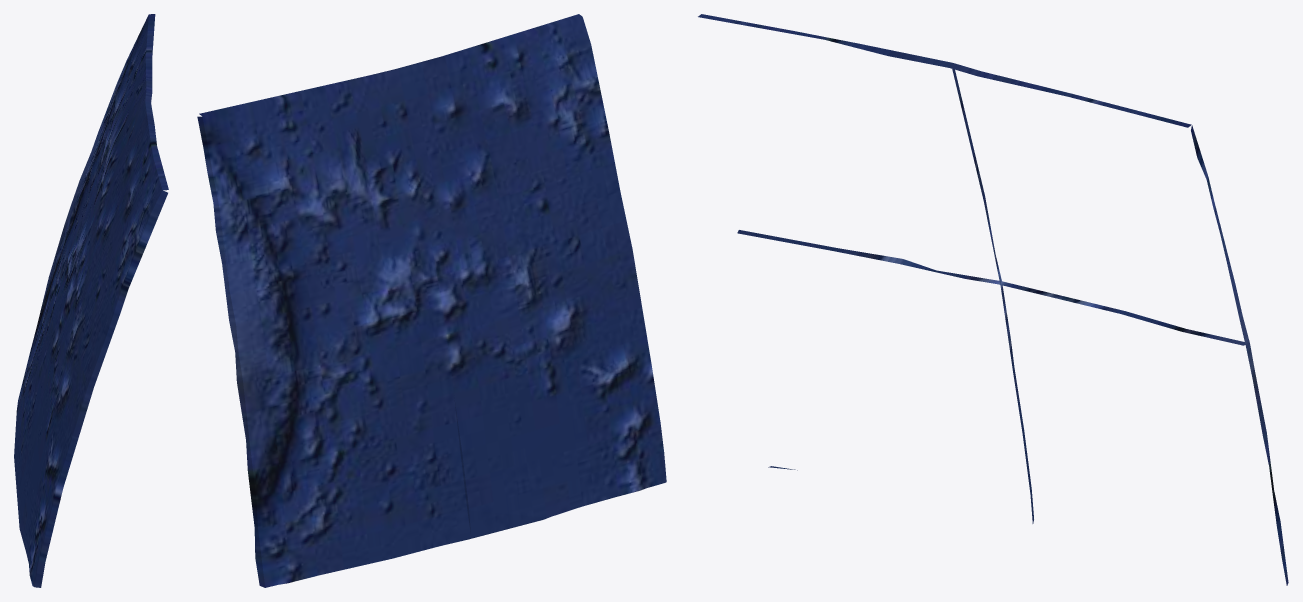
The picture shows the model from 3 angles, left to right: view 1: azimuth 30°, elevation 25°; view 2: azimuth 150°, elevation 25°; view 3: azimuth 270°, elevation 25°; orthographic projection. The views are drawn at different scales.
Size of the model in its own units: 896268 by 1206393 by 1235469.
Materials: 1 (1 with a texture image).
